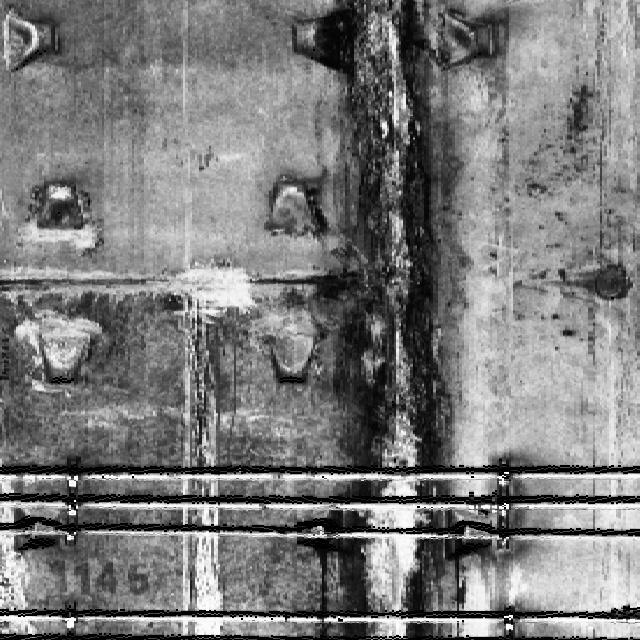leakage: (303, 0, 485, 638)
